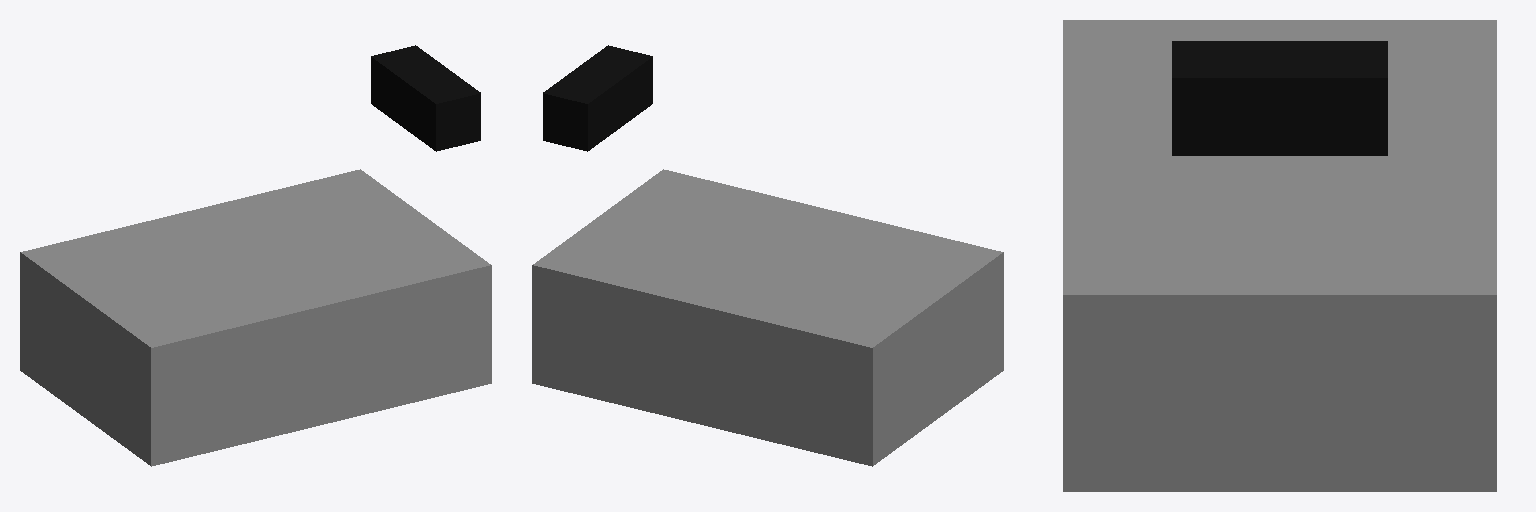
The robot description file, URDF, robot "simple_bot":
<?xml version="1.0"?>
<robot name="simple_bot">
  <link name="base_link">
    <visual>
      <geometry><box size="0.3 0.2 0.1"/></geometry>
      <material name="grey"><color rgba="0.6 0.6 0.6 1"/></material>
    </visual>
  </link>

  <link name="camera_frame">
    <visual>
      <geometry><box size="0.04 0.1 0.04"/></geometry>
      <material name="black"><color rgba="0.1 0.1 0.1 1"/></material>
    </visual>
  </link>

  <joint name="base_to_camera" type="fixed">
    <parent link="base_link"/>
    <child link="camera_frame"/>
    <origin xyz="0.15 0 0.15" rpy="0 0 0"/>
  </joint>
</robot>

--- Facts derived from the render (not from the file) ---
3 views of the same robot in one strip: view 1: azimuth 30°, elevation 25°; view 2: azimuth 150°, elevation 25°; view 3: azimuth 270°, elevation 25° (orthographic).
Model simple_bot with 2 links and 1 joints (1 fixed), rooted at base_link, posed all joints at 0.
Visible links, largest first — view 1: base_link, camera_frame; view 2: base_link, camera_frame; view 3: base_link, camera_frame.
Link boxes in pixels (x1,y1,x2,y2): base_link: [20, 169, 491, 466]; camera_frame: [371, 45, 480, 151]; base_link: [532, 169, 1003, 466]; camera_frame: [543, 45, 652, 151]; base_link: [1063, 20, 1496, 491]; camera_frame: [1172, 41, 1387, 155].
Bounding box of the posed robot: 0.32 × 0.2 × 0.22 m (x, y, z).
Geometry: primitives only (box / cylinder / sphere), no mesh files.
